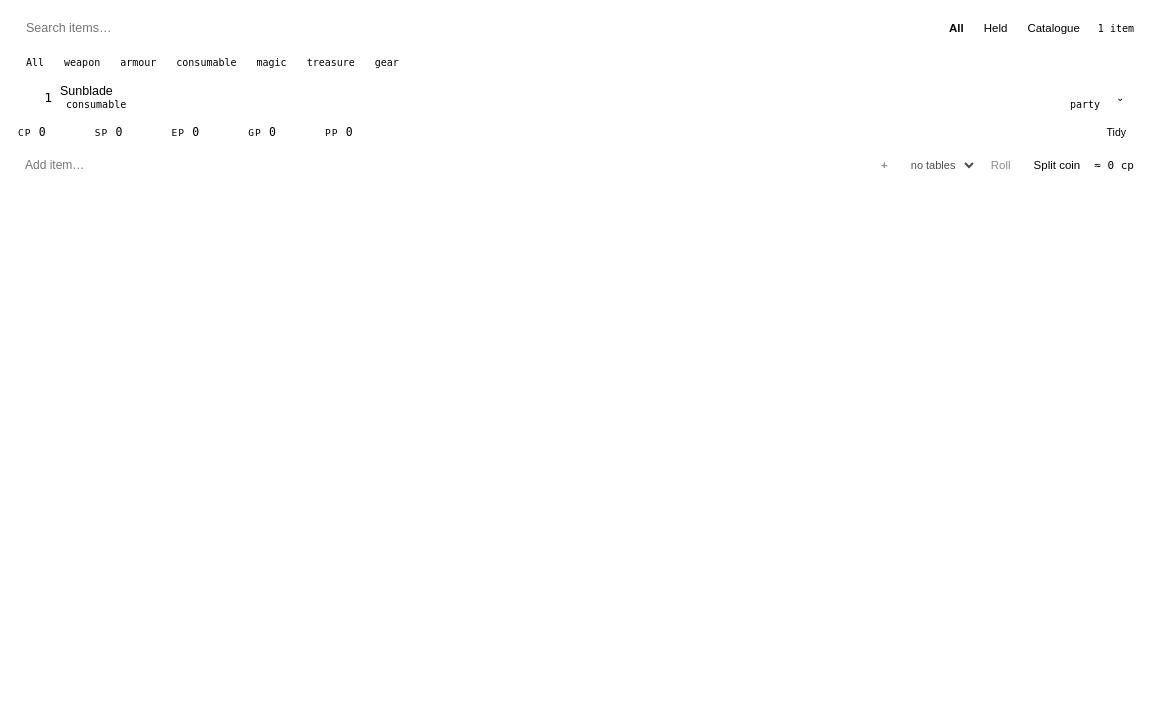
Test: Items weapon and armour detail › offers damage and armour class on a kind that is neither weapon nor armour
This screenshot has width=1152, height=720.
Click the text "Sunblade" at {"x": 86, "y": 91}, box left=60, top=84, right=113, bottom=98
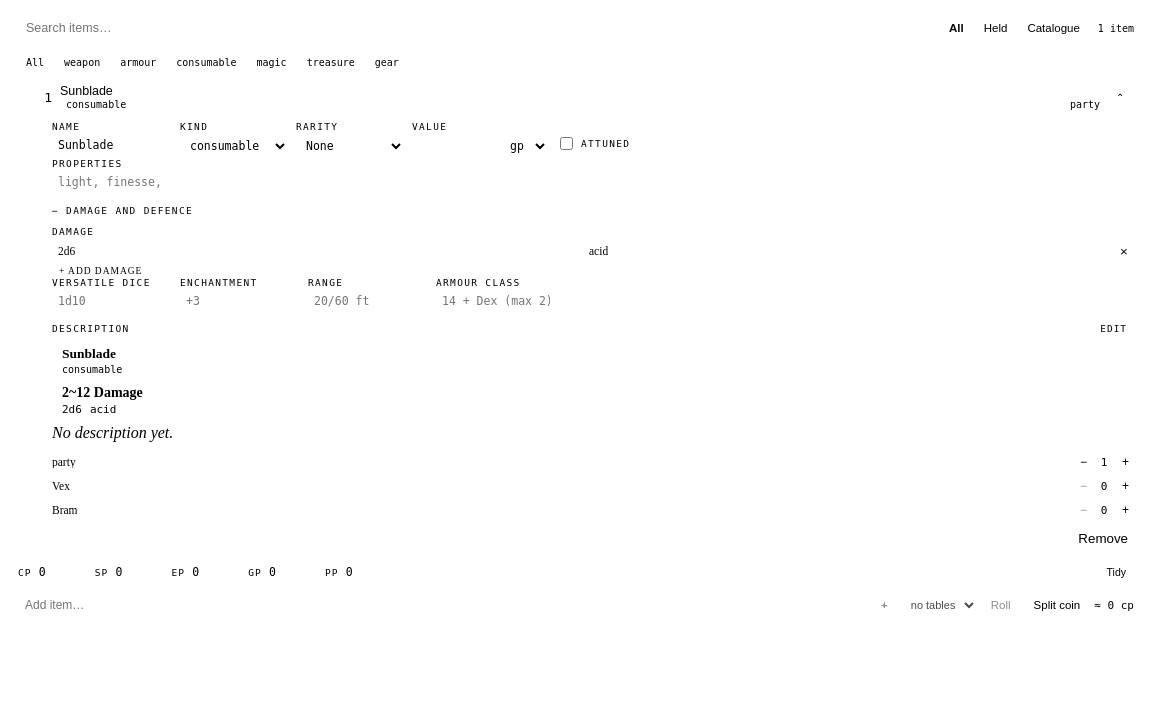
Check: the field named "Base damage dice" is shown, box left=52, top=241, right=579, bottom=261
Check: the field labelled "Armour class" is shown, box left=436, top=290, right=556, bottom=312
